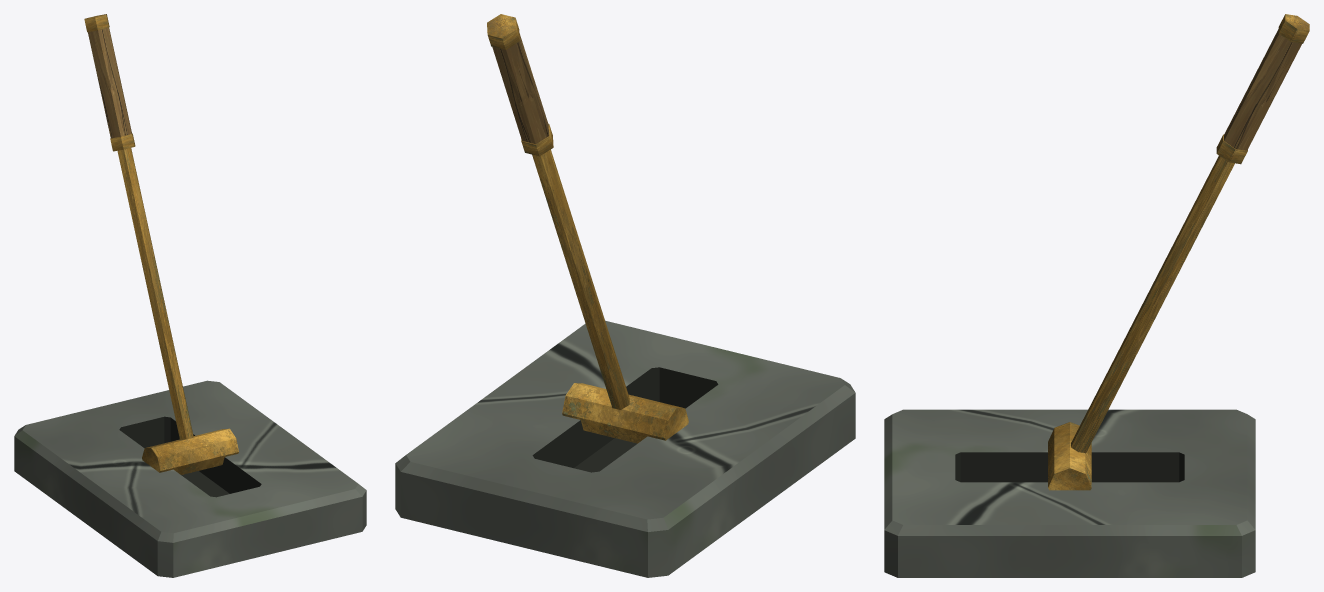
Rendered from Lever_Floor.fbx.
3 renders of one model, left to right at view 1: azimuth 30°, elevation 25°; view 2: azimuth 150°, elevation 25°; view 3: azimuth 270°, elevation 25°, orthographic. The views are drawn at different scales.
Parts seen in each view (by area): view 1: SM_Lever_Base, SM_Lever_Handle_Rotate_X; view 2: SM_Lever_Base, SM_Lever_Handle_Rotate_X; view 3: SM_Lever_Base, SM_Lever_Handle_Rotate_X.
Part boxes in pixels (box(x1,y1,x2,y2)): SM_Lever_Base: box(14, 380, 366, 577); SM_Lever_Handle_Rotate_X: box(84, 14, 193, 439); SM_Lever_Base: box(395, 320, 855, 577); SM_Lever_Handle_Rotate_X: box(487, 14, 629, 409); SM_Lever_Base: box(884, 409, 1255, 577); SM_Lever_Handle_Rotate_X: box(1071, 14, 1309, 453).
Size of the model in its own units: 53 by 101 by 77.91.
Materials: 4 (3 with a texture image).
